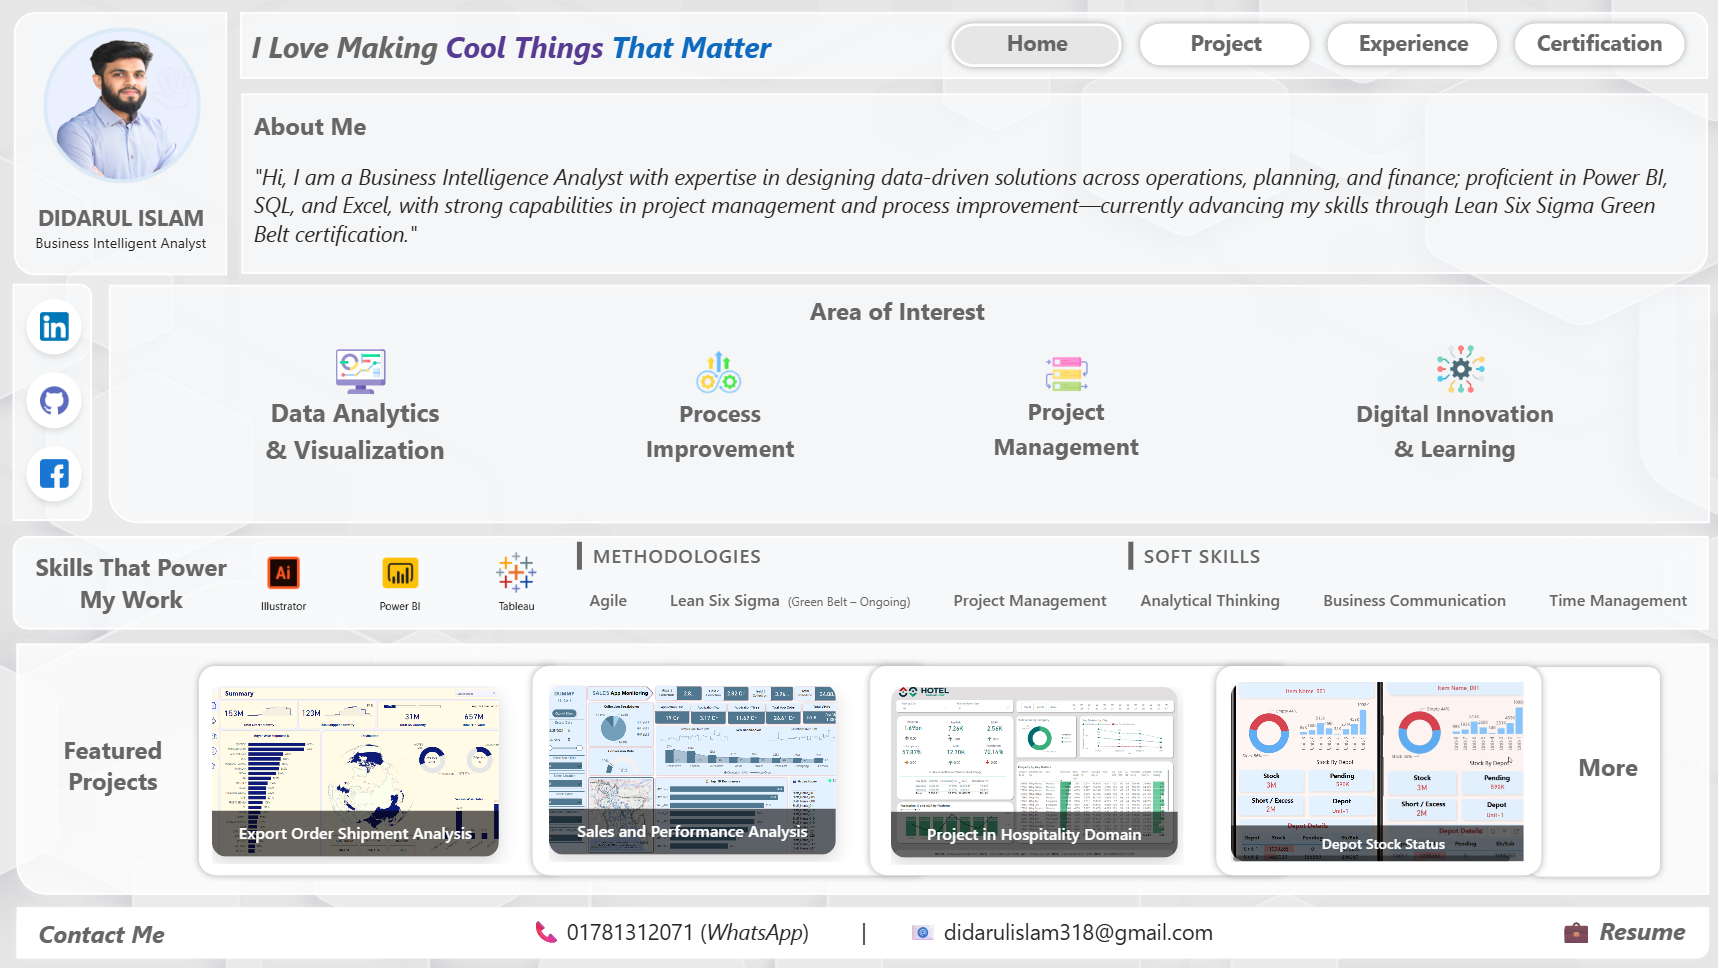

This screenshot's page, from the dashboard's own definition file:
{"tool":"powerbi","page":{"name":"Home","canvas":[1920,1080],"ordinal":0},"visuals":[{"type":"shape","box":[0,0,1920,1080.7],"z":0},{"type":"image","box":[371.5,380.3,64.9,67.6],"z":0,"group":"g4"},{"type":"shape","box":[261.5,5.8,1653.8,90.4],"z":1000},{"type":"image","box":[1601,376.2,62.7,70.7],"z":1000,"group":"g3"},{"type":"image","box":[774.9,377.5,60.6,75.2],"z":1000,"group":"g1"},{"type":"image","box":[1164.2,386,56.5,61.6],"z":1000,"group":"g2"},{"type":"htmlContent443BE3AD55E043BF878BED274D3A6855","fields":{"content":["Table.Card_Prject_Management_html"]},"box":[936.6,373.3,533.7,219.8],"z":1500,"group":"g2"},{"type":"htmlContent443BE3AD55E043BF878BED274D3A6855","fields":{"content":["Table.Card_Process_Improvement_html"]},"box":[551.2,375,532,218],"z":1500,"group":"g1"},{"type":"htmlContent443BE3AD55E043BF878BED274D3A6855","fields":{"content":["Table.Card_Digital_Innovation_Learning_html"]},"box":[1371,375.4,537.2,214.5],"z":1500,"group":"g3"},{"type":"shape","box":[9.6,5.8,253.8,309.6],"z":2000},{"type":"htmlContent443BE3AD55E043BF878BED274D3A6855","fields":{"content":["Table.CardHTML"]},"box":[143.4,375,542.4,214.5],"z":2000,"group":"g4"},{"type":"shape","box":[263.5,96.2,1651.9,217.3],"z":3000},{"type":"shape","box":[9,308,104.5,281],"z":4000},{"type":"textbox","box":[11.5,221.2,251.9,92.3],"z":5000},{"type":"image","box":[46.1,25,184.6,184.6],"z":6000},{"type":"textbox","box":[280.8,117.3,167.3,59.6],"z":7000},{"type":"textbox","box":[280.6,176.2,1613.5,123.2],"z":8000},{"type":"htmlContent443BE3AD55E043BF878BED274D3A6855","fields":{"content":["Table.Social HTML"]},"box":[0,299,126.1,309.8],"z":9000},{"type":"htmlContent443BE3AD55E043BF878BED274D3A6855","fields":{"content":["Table.GreetingCard_HandOnly"]},"box":[263.4,96.7,1632.2,202.7],"z":10000},{"type":"htmlContent443BE3AD55E043BF878BED274D3A6855","fields":{"content":["Table.GreetingCard_HandOnly"]},"box":[9,70.2,252.2,228.7],"z":11000},{"type":"shape","box":[115.4,310.2,1802.1,282.2],"z":12000},{"type":"textbox","box":[871.4,324.2,263.4,59.2],"z":13000},{"type":"textbox","box":[273.8,24.4,598.3,59.3],"z":15000},{"type":"shape","box":[8.7,589.5,1908.1,120.3],"z":16000},{"type":"textbox","box":[17.1,609.5,263.4,90.4],"z":17000},{"type":"htmlContent443BE3AD55E043BF878BED274D3A6855","fields":{"content":["Table.Scrolling_Icons"]},"box":[280.8,600,359.3,109.9],"z":18000},{"type":"htmlContent443BE3AD55E043BF878BED274D3A6855","fields":{"content":["Table.Skills_HTML_Creative"]},"box":[620.9,593,1299.4,123.8],"z":19000},{"type":"group","id":"g1","title":"Process Improvement","box":[551.2,375,532,218],"z":20000},{"type":"group","id":"g2","title":"Project Management","box":[936.6,373.3,533.7,219.8],"z":21000},{"type":"group","id":"g3","title":"Digital Transformation","box":[1371,375.4,537.2,214.5],"z":22000},{"type":"group","id":"g4","title":"Data Analytics","box":[143.4,375,542.4,214.5],"z":23000},{"type":"shape","box":[12.2,709.9,1904.7,296.5],"z":24000},{"type":"shape","box":[1265.8,18.3,205,62.8],"z":25000},{"type":"shape","box":[1055.4,17.4,205.8,64.5],"z":26000},{"type":"shape","box":[1475.5,18.3,205,62.8],"z":27000},{"type":"shape","box":[1685.1,18.3,205,62.8],"z":28000},{"type":"group","id":"g5","title":"Group 1","box":[216.3,734.4,423.8,249.4],"z":29000},{"type":"shape","box":[1700.6,736,162.2,249.4],"z":30000},{"type":"shape","box":[1351.7,734.3,378.5,249.4],"z":31000,"group":"g8"},{"type":"shape","box":[964.8,734.6,486.6,249.4],"z":31000,"group":"g7"},{"type":"group","id":"g6","title":"Group 2","box":[588.9,735,460.5,249.4],"z":31000},{"type":"shape","box":[216.3,734.4,423.8,249.4],"z":32000,"group":"g5"},{"type":"group","id":"g7","title":"Group 3","box":[964.8,734.6,486.6,249.4],"z":32000},{"type":"shape","box":[588.9,735,460.5,249.4],"z":32000,"group":"g6"},{"type":"htmlContent443BE3AD55E043BF878BED274D3A6855","fields":{"content":["Table.ProjectCard_HTML"]},"box":[234.6,758.8,401.4,207.6],"z":33000,"group":"g5"},{"type":"htmlContent443BE3AD55E043BF878BED274D3A6855","fields":{"content":["Table.Hospitality-Domain"]},"box":[991.6,761.4,336.6,207.6],"z":33000,"group":"g7"},{"type":"textbox","box":[45.4,812.8,163.9,90.7],"z":33000},{"type":"htmlContent443BE3AD55E043BF878BED274D3A6855","fields":{"content":["Table.Sales and Performance Analysis"]},"box":[610.5,758.8,348.8,207.6],"z":33501,"group":"g6"},{"type":"textbox","box":[1740.7,832,111.6,57.6],"z":34000},{"type":"htmlContent443BE3AD55E043BF878BED274D3A6855","fields":{"content":["Table.Depot Stock Status"]},"box":[1371.2,755.5,336.6,211.1],"z":34001,"group":"g8"},{"type":"group","id":"g8","title":"Group 4","box":[1351.7,734.3,378.5,249.4],"z":35000},{"type":"shape","box":[12.2,1004.6,1904.7,73.3],"z":36000},{"type":"textbox","box":[33.1,1018.6,163.9,59.3],"z":37000},{"type":"textbox","box":[589.5,1018.6,861.6,61],"z":38000},{"type":"textbox","box":[1069.2,26.2,179.7,43.6],"z":39000},{"type":"textbox","box":[1280.2,26.2,179.7,48.8],"z":40000},{"type":"textbox","box":[1489.5,26.2,179.7,48.8],"z":41000},{"type":"textbox","box":[1697.1,26.2,179.7,48.8],"z":42000},{"type":"textbox","box":[1730.2,1015.1,163.9,50.6],"z":43000},{"type":"actionButton","box":[1730.2,1020.4,177.9,45.4],"z":44000},{"type":"actionButton","box":[1280.2,26.2,179.7,48.8],"z":45000},{"type":"actionButton","box":[1487.8,24.4,179.7,48.8],"z":46000},{"type":"actionButton","box":[1697.1,24.4,179.7,48.8],"z":47000},{"type":"actionButton","box":[1740.7,764,111.6,202.3],"z":48000}]}

Visuals, with their boxes in screenshot pixels (x1, y1, x2, y2), scaled from the page's 1920x1080 canvas onto the 1719x968 screenshot:
shape: (left=0, top=0, right=1718, bottom=967)
image: (left=333, top=341, right=391, bottom=401)
shape: (left=234, top=5, right=1715, bottom=86)
image: (left=1433, top=337, right=1490, bottom=401)
image: (left=694, top=338, right=748, bottom=406)
image: (left=1042, top=346, right=1093, bottom=401)
htmlContent443BE3AD55E043BF878BED274D3A6855 - Table.Card_Prject_Management_html: (left=839, top=335, right=1316, bottom=532)
htmlContent443BE3AD55E043BF878BED274D3A6855 - Table.Card_Process_Improvement_html: (left=493, top=336, right=970, bottom=532)
htmlContent443BE3AD55E043BF878BED274D3A6855 - Table.Card_Digital_Innovation_Learning_html: (left=1227, top=336, right=1708, bottom=529)
shape: (left=9, top=5, right=236, bottom=283)
htmlContent443BE3AD55E043BF878BED274D3A6855 - Table.CardHTML: (left=128, top=336, right=614, bottom=528)
shape: (left=236, top=86, right=1715, bottom=281)
shape: (left=8, top=276, right=102, bottom=528)
textbox: (left=10, top=198, right=236, bottom=281)
image: (left=41, top=22, right=207, bottom=188)
textbox: (left=251, top=105, right=401, bottom=159)
textbox: (left=251, top=158, right=1696, bottom=268)
htmlContent443BE3AD55E043BF878BED274D3A6855 - Table.Social HTML: (left=0, top=268, right=113, bottom=546)
htmlContent443BE3AD55E043BF878BED274D3A6855 - Table.GreetingCard_HandOnly: (left=236, top=87, right=1697, bottom=268)
htmlContent443BE3AD55E043BF878BED274D3A6855 - Table.GreetingCard_HandOnly: (left=8, top=63, right=234, bottom=268)
shape: (left=103, top=278, right=1717, bottom=531)
textbox: (left=780, top=291, right=1016, bottom=344)
textbox: (left=245, top=22, right=781, bottom=75)
shape: (left=8, top=528, right=1716, bottom=636)
textbox: (left=15, top=546, right=251, bottom=627)
htmlContent443BE3AD55E043BF878BED274D3A6855 - Table.Scrolling_Icons: (left=251, top=538, right=573, bottom=636)
htmlContent443BE3AD55E043BF878BED274D3A6855 - Table.Skills_HTML_Creative: (left=556, top=532, right=1718, bottom=642)
"Process Improvement" group: (left=493, top=336, right=970, bottom=532)
"Project Management" group: (left=839, top=335, right=1316, bottom=532)
"Digital Transformation" group: (left=1227, top=336, right=1708, bottom=529)
"Data Analytics" group: (left=128, top=336, right=614, bottom=528)
shape: (left=11, top=636, right=1716, bottom=902)
shape: (left=1133, top=16, right=1317, bottom=73)
shape: (left=945, top=16, right=1129, bottom=73)
shape: (left=1321, top=16, right=1505, bottom=73)
shape: (left=1509, top=16, right=1692, bottom=73)
"Group 1" group: (left=194, top=658, right=573, bottom=882)
shape: (left=1523, top=660, right=1668, bottom=883)
shape: (left=1210, top=658, right=1549, bottom=882)
shape: (left=864, top=658, right=1299, bottom=882)
"Group 2" group: (left=527, top=659, right=940, bottom=882)
shape: (left=194, top=658, right=573, bottom=882)
"Group 3" group: (left=864, top=658, right=1299, bottom=882)
shape: (left=527, top=659, right=940, bottom=882)
htmlContent443BE3AD55E043BF878BED274D3A6855 - Table.ProjectCard_HTML: (left=210, top=680, right=569, bottom=866)
htmlContent443BE3AD55E043BF878BED274D3A6855 - Table.Hospitality-Domain: (left=888, top=682, right=1189, bottom=869)
textbox: (left=41, top=729, right=187, bottom=810)
htmlContent443BE3AD55E043BF878BED274D3A6855 - Table.Sales and Performance Analysis: (left=547, top=680, right=859, bottom=866)
textbox: (left=1558, top=746, right=1658, bottom=797)
htmlContent443BE3AD55E043BF878BED274D3A6855 - Table.Depot Stock Status: (left=1228, top=677, right=1529, bottom=866)
"Group 4" group: (left=1210, top=658, right=1549, bottom=882)
shape: (left=11, top=900, right=1716, bottom=966)
textbox: (left=30, top=913, right=176, bottom=966)
textbox: (left=528, top=913, right=1299, bottom=967)
textbox: (left=957, top=23, right=1118, bottom=63)
textbox: (left=1146, top=23, right=1307, bottom=67)
textbox: (left=1334, top=23, right=1494, bottom=67)
textbox: (left=1519, top=23, right=1680, bottom=67)
textbox: (left=1549, top=910, right=1696, bottom=955)
actionButton: (left=1549, top=915, right=1708, bottom=955)
actionButton: (left=1146, top=23, right=1307, bottom=67)
actionButton: (left=1332, top=22, right=1493, bottom=66)
actionButton: (left=1519, top=22, right=1680, bottom=66)
actionButton: (left=1558, top=685, right=1658, bottom=866)
